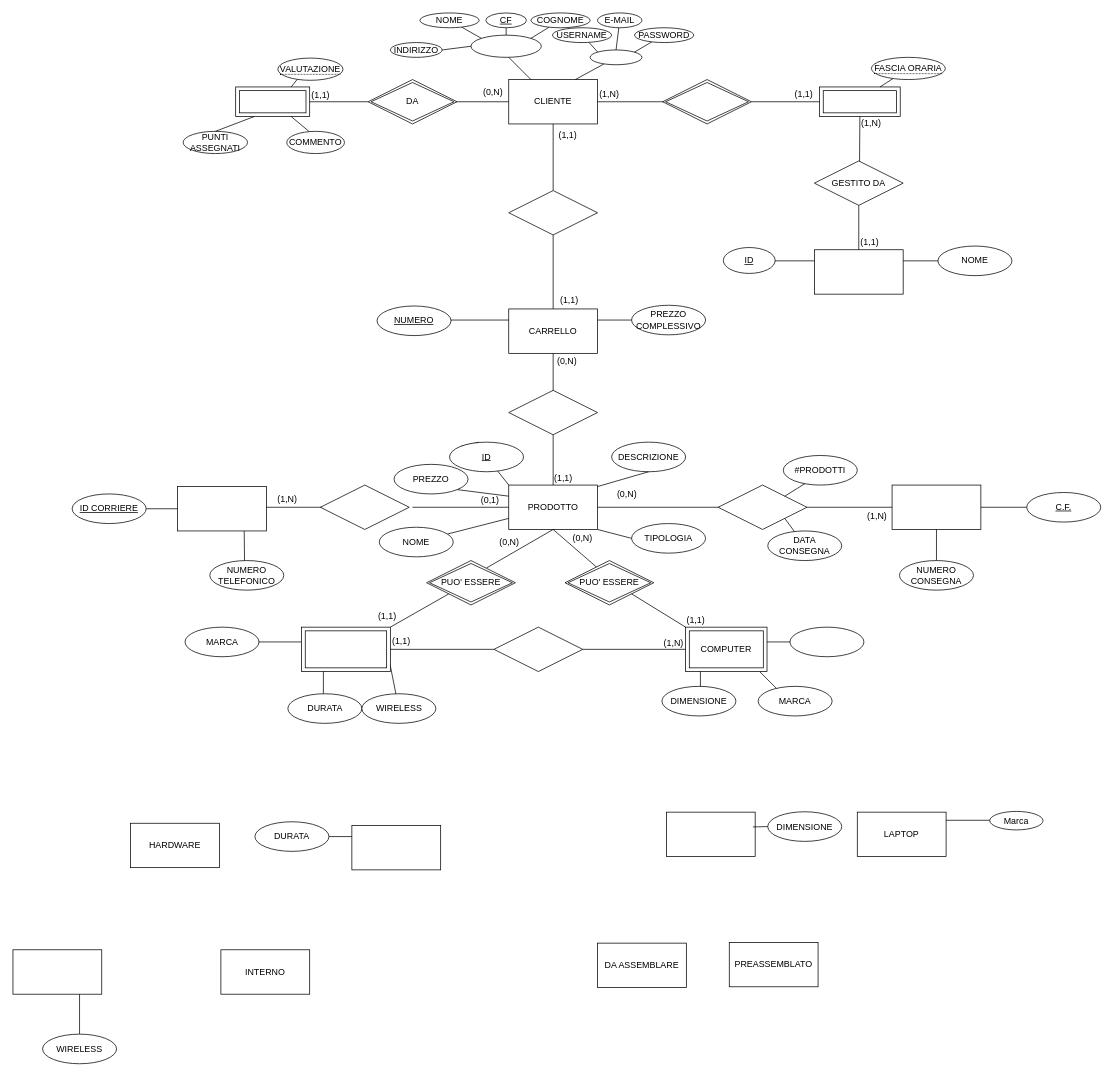
The diagram is 1114 pixels wide and 1077 high, and some of its shapes have lost their labels. Each missing label, with the centre of its shape:
"ACCOUNT" belongs at (x=615, y=57).
"ACQUISTA" belongs at (x=553, y=212).
"ANNI DI GARANZIA" belongs at (x=826, y=641).
"ASSISTENTE" belongs at (x=858, y=271).
"COMPONENTE" belongs at (x=345, y=649).
"CONTIENE" belongs at (x=553, y=412).
"CORRIERE" belongs at (x=221, y=508).
"DATI ANAGRAFICI" belongs at (x=505, y=45).
"FEEDBACK" belongs at (x=272, y=101).
"FORNITO" belongs at (x=762, y=506).
"FORNITORE" belongs at (x=936, y=506).
"HA" belongs at (x=538, y=649).
"HELPDESK" belongs at (x=859, y=101).
"PC" belongs at (x=710, y=834).
"PERIFERICA" belongs at (x=57, y=971).
"SOFTWARE" belongs at (x=396, y=847).
"SPEDITO" belongs at (x=364, y=506).
"USA" belongs at (x=706, y=101).
